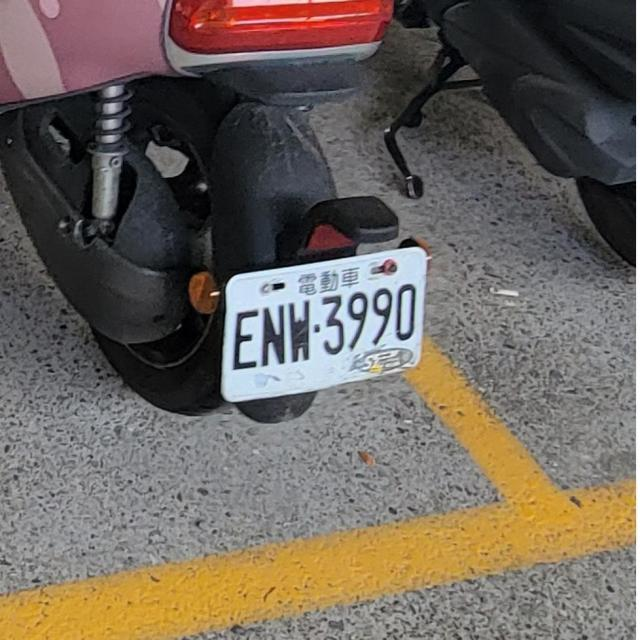W: (210, 238, 439, 411)
